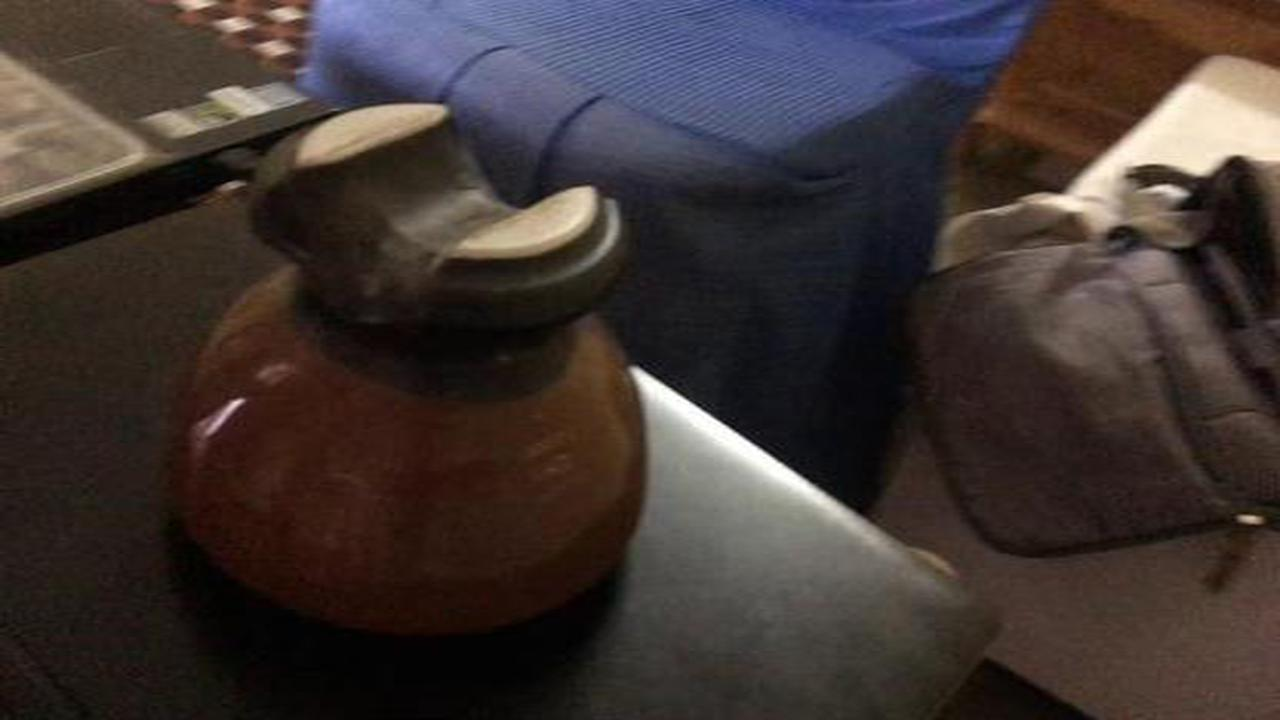insulator_pin: (157, 94, 668, 665)
